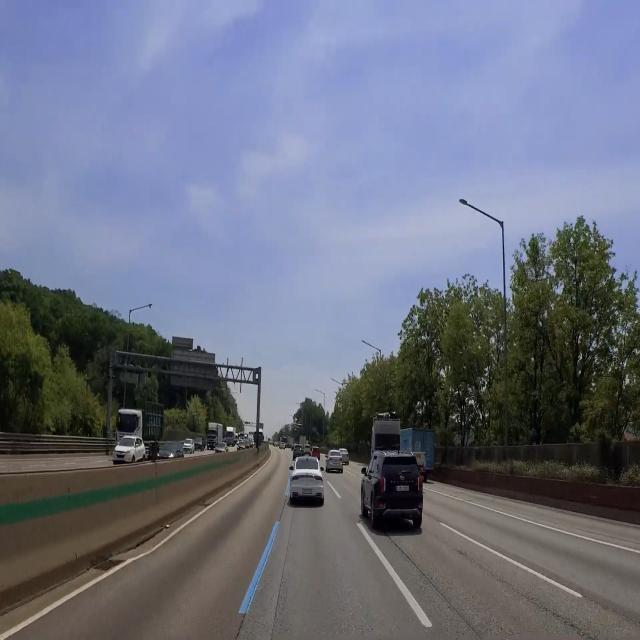car: (394, 479, 411, 497), (299, 486, 315, 496), (333, 459, 341, 468)
